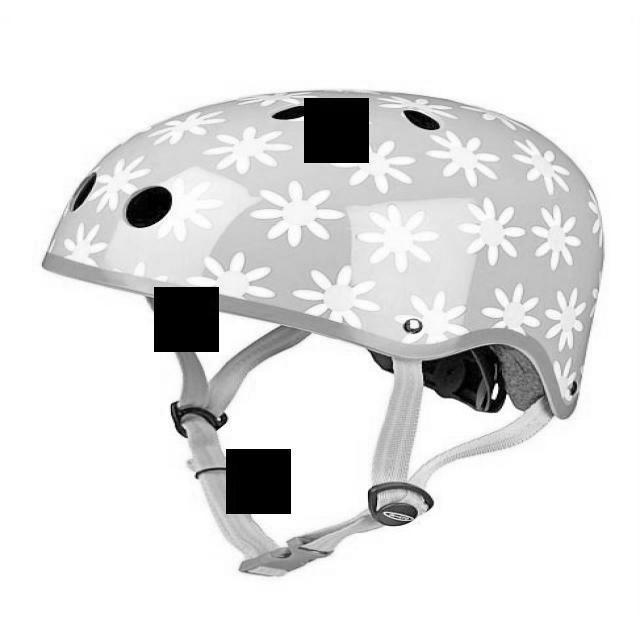helmet: (13, 52, 596, 467)
